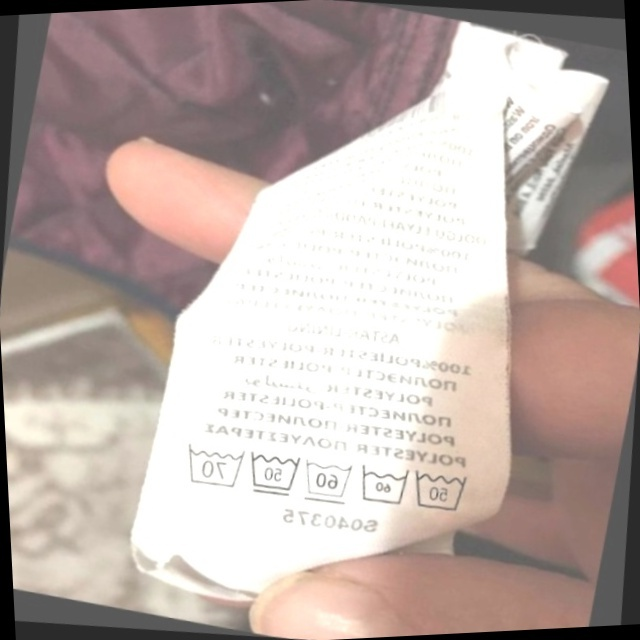50C: (402, 455, 479, 524), (237, 441, 308, 506)
60C: (292, 448, 359, 512), (348, 454, 416, 516)
70C: (172, 433, 250, 497)
